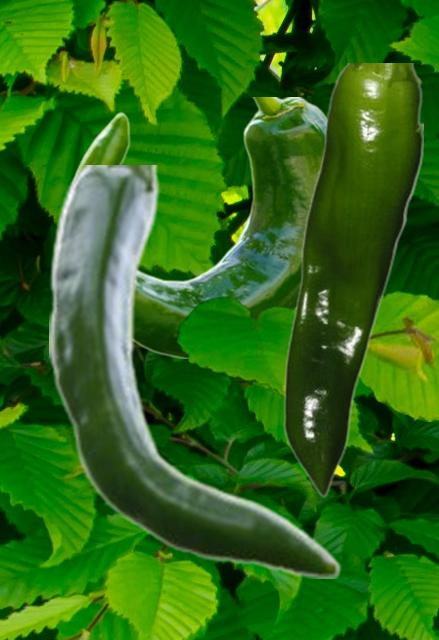green_chili: (49, 165, 341, 577), (68, 97, 325, 357), (282, 63, 422, 496)
